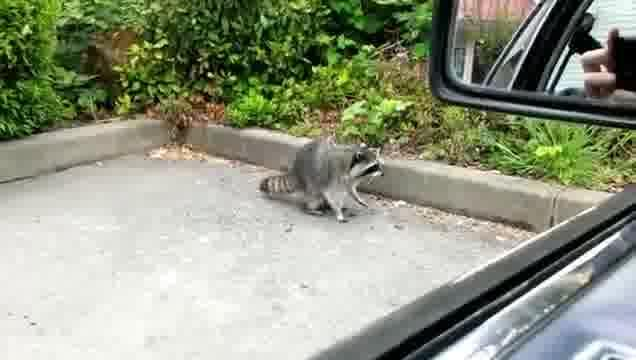raccoon: (260, 137, 389, 225)
